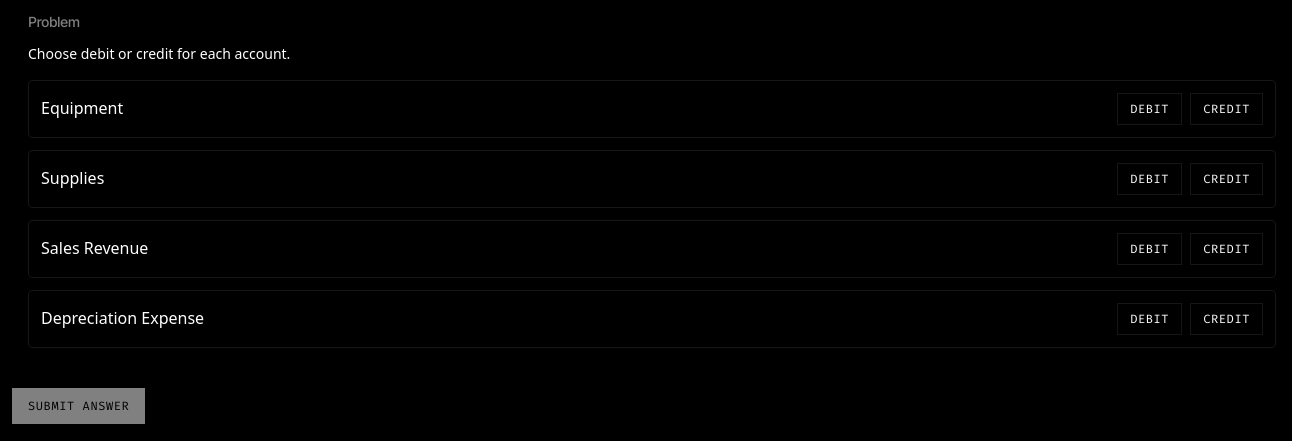
Test: NormalBalanceInput › disables submit until all accounts have a selection
Expected: the button "Submit Answer" is disabled, [12,388,145,424]
Click the button "Debit" in the row of "Equipment" at x=1150, y=109, box [1117,93,1182,125]
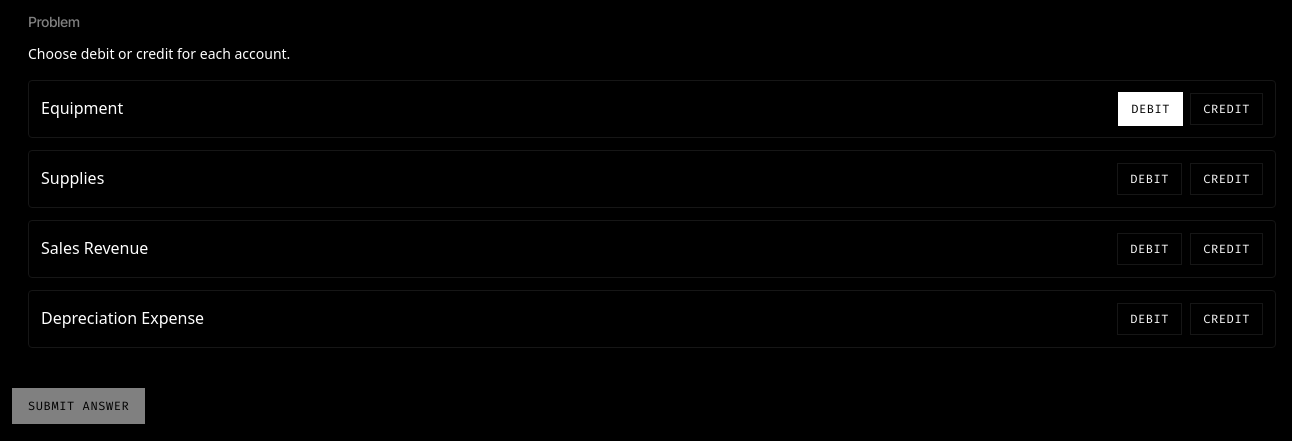
Expected: the button "Submit Answer" is disabled, [12,388,145,424]
Click the button "Debit" in the row of "Supplies" at x=1150, y=179, box [1117,163,1182,195]
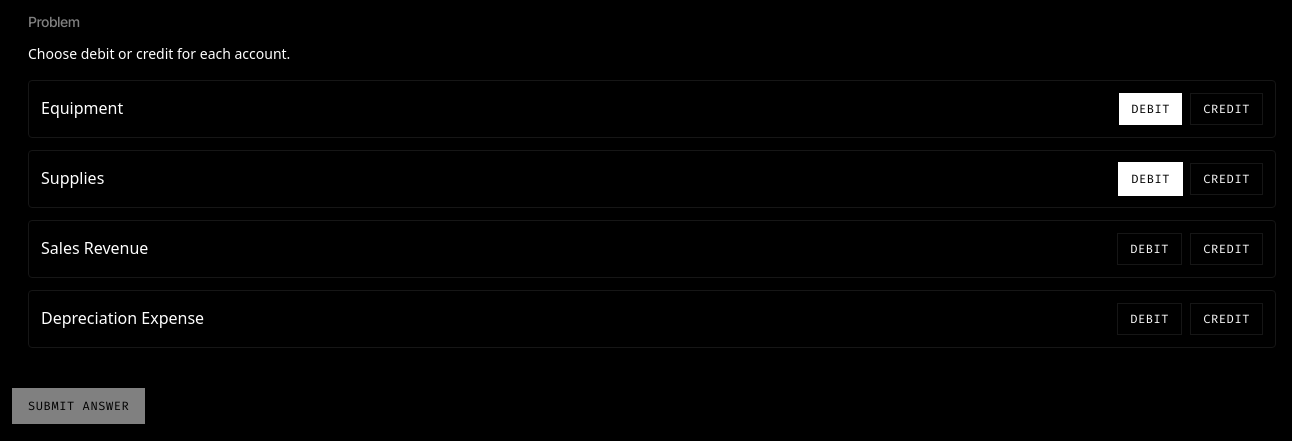
Click the button "Credit" in the row of "Sales Revenue" at x=1227, y=249, box [1190,233,1263,265]
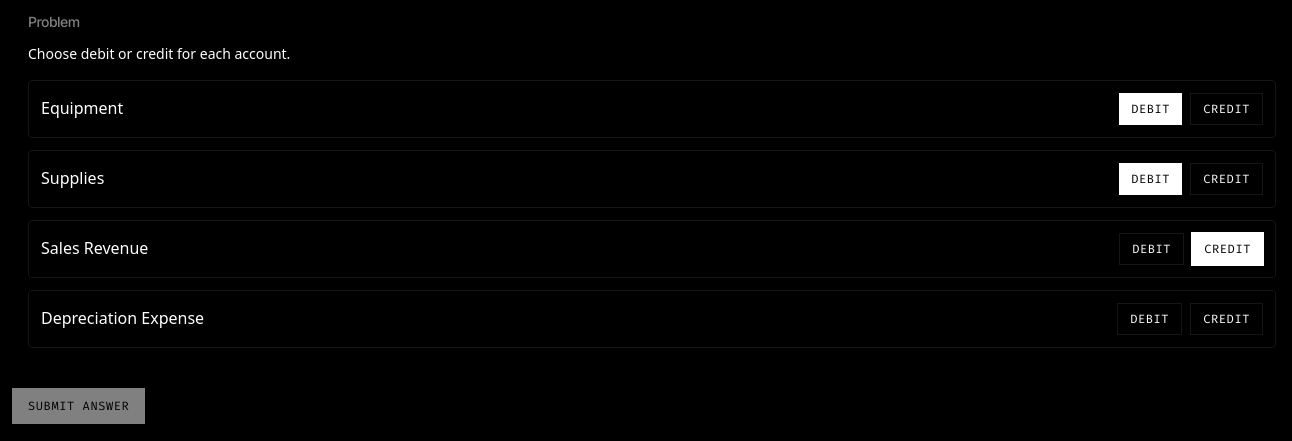
Click the button "Debit" in the row of "Depreciation Expense" at x=1150, y=319, box [1117,303,1182,335]
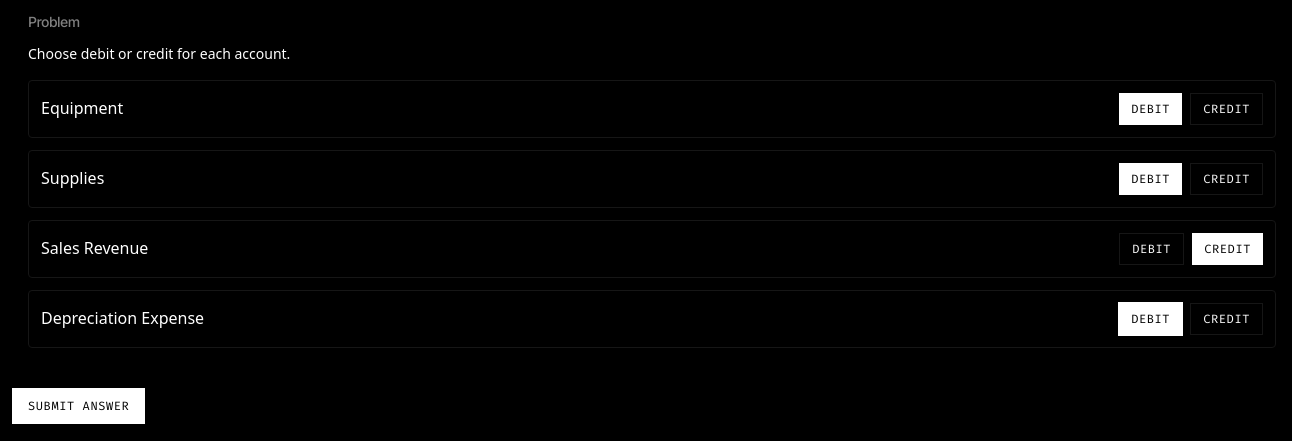
Expected: the button "Submit Answer" is enabled, [12,388,145,424]
